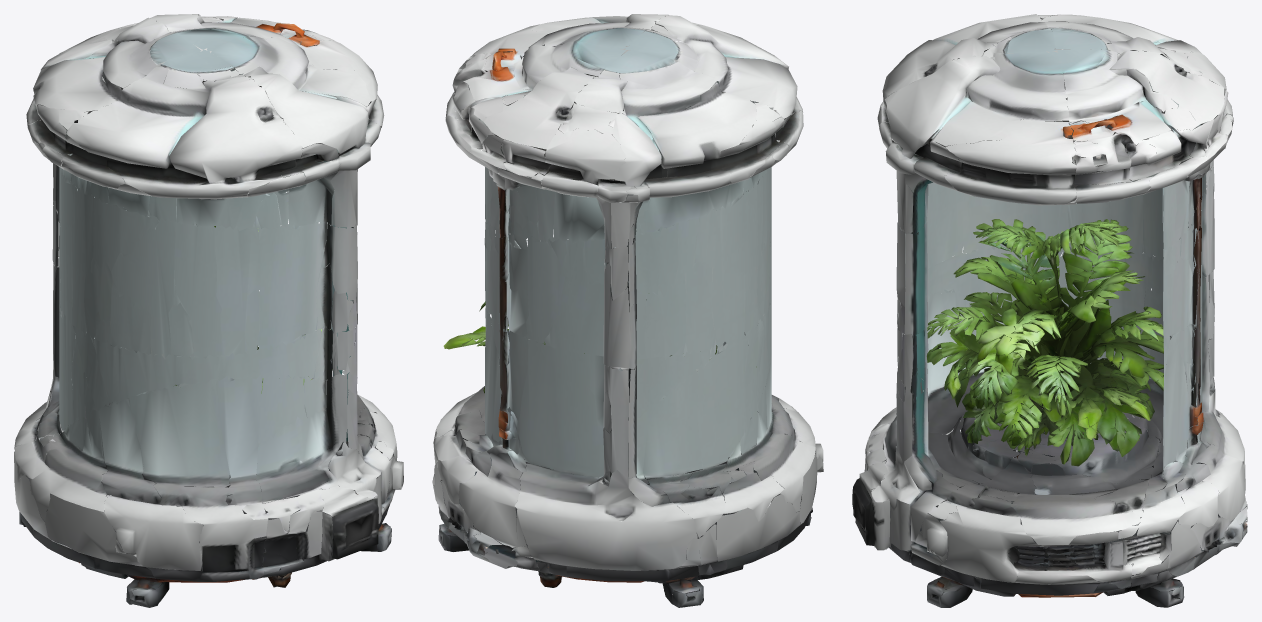
Rendered from SM_Tripo_BotanicalPod.fbx.
The picture shows the model from 3 angles, left to right: view 1: azimuth 30°, elevation 25°; view 2: azimuth 150°, elevation 25°; view 3: azimuth 270°, elevation 25°; orthographic projection.
Visible parts, largest first — view 1: SM_Tripo_BotanicalPod; view 2: SM_Tripo_BotanicalPod; view 3: SM_Tripo_BotanicalPod.
Boxes of the visible parts, x1=… form: SM_Tripo_BotanicalPod: x1=14, y1=14, x2=403, y2=607; SM_Tripo_BotanicalPod: x1=432, y1=14, x2=823, y2=607; SM_Tripo_BotanicalPod: x1=852, y1=14, x2=1247, y2=607.
Size of the model in its own units: 160 by 220 by 160.
Materials: 1 (1 with a texture image).
